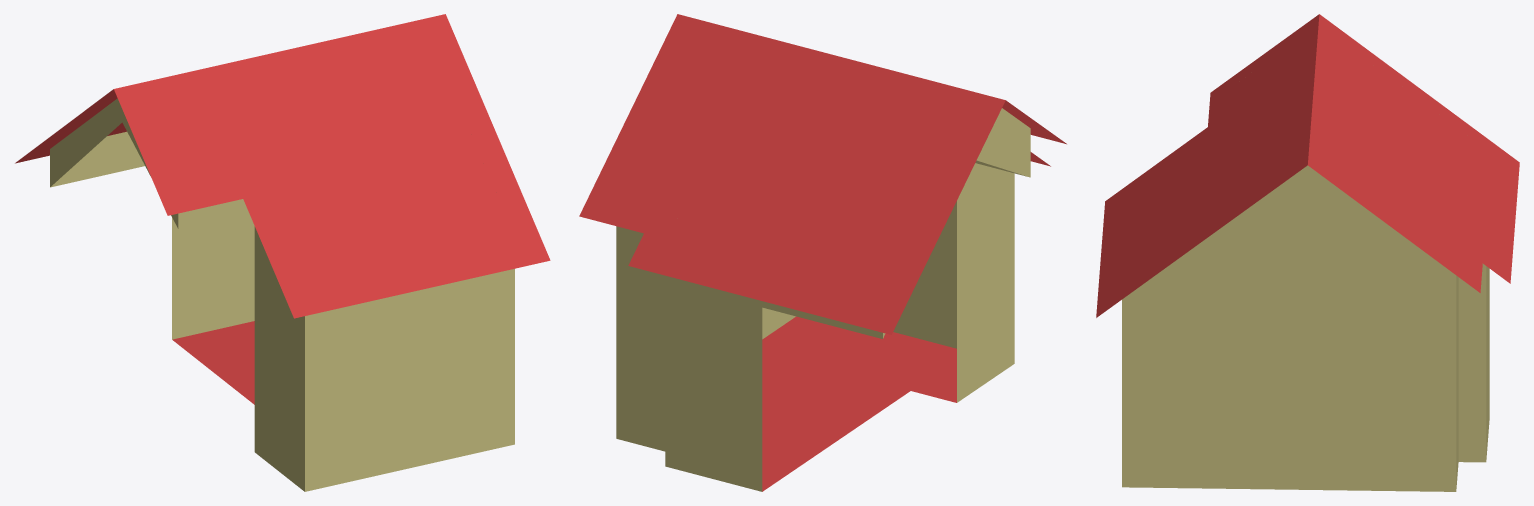
The picture shows the model from 3 angles, left to right: view 1: azimuth 30°, elevation 25°; view 2: azimuth 150°, elevation 25°; view 3: azimuth 270°, elevation 25°; orthographic projection. The views are drawn at different scales.
Size of the model in its own units: 14.65 by 16.9 by 14.75.
